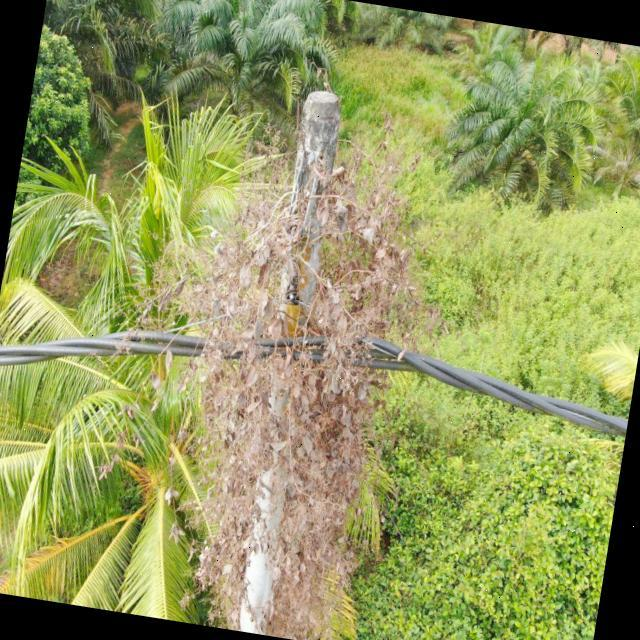critical vegetation: (99, 104, 436, 638)
